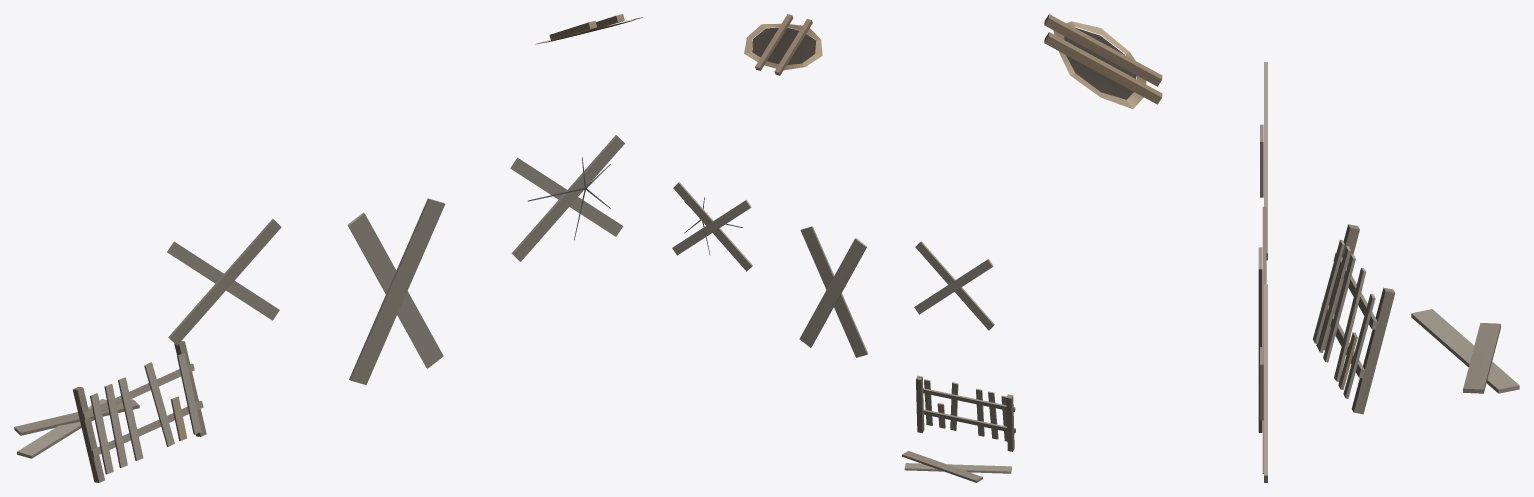
The model's file is house_broken_house_low.glb.
3 renders of one model, left to right at view 1: azimuth 30°, elevation 25°; view 2: azimuth 150°, elevation 25°; view 3: azimuth 270°, elevation 25°, orthographic. The views are drawn at different scales.
Bounding box in the file's own units: 6.01 × 4.67 × 3.43.
